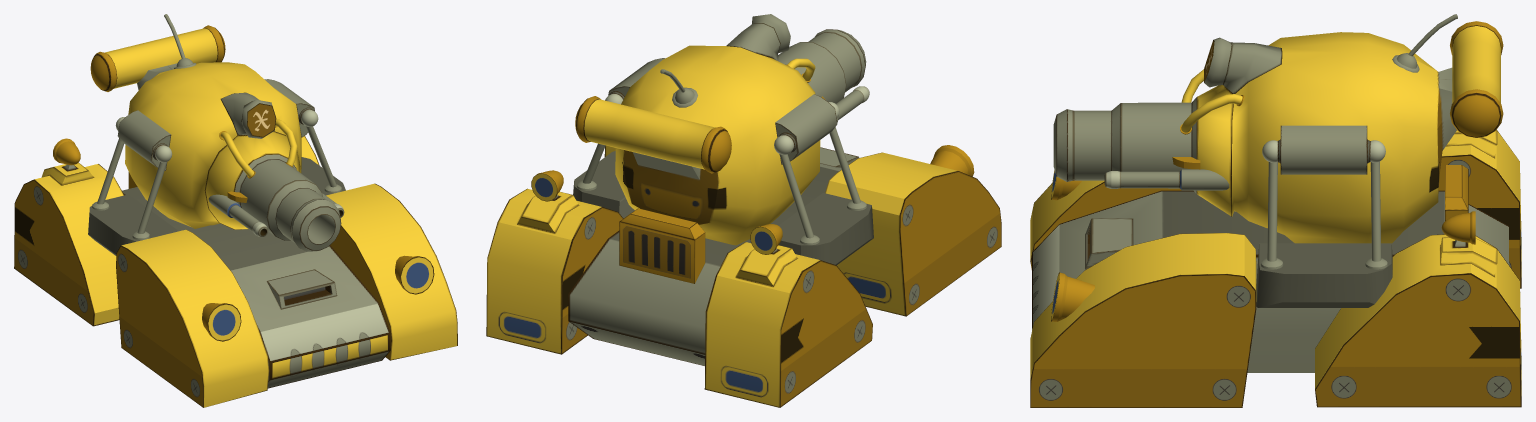
Rendered from Tank2_Tower_and_Base.fbx.
3 renders of one model, left to right at view 1: azimuth 30°, elevation 25°; view 2: azimuth 150°, elevation 25°; view 3: azimuth 270°, elevation 25°, orthographic. The views are drawn at different scales.
Visible parts, largest first — view 1: Tower_and_Base; view 2: Tower_and_Base; view 3: Tower_and_Base.
Boxes of the visible parts, x1,y1,x2,y2 form: Tower_and_Base: (14,14,457,407); Tower_and_Base: (486,14,1001,407); Tower_and_Base: (1030,14,1521,407).
Size of the model in its own units: 3.91 by 3.64 by 5.06.
